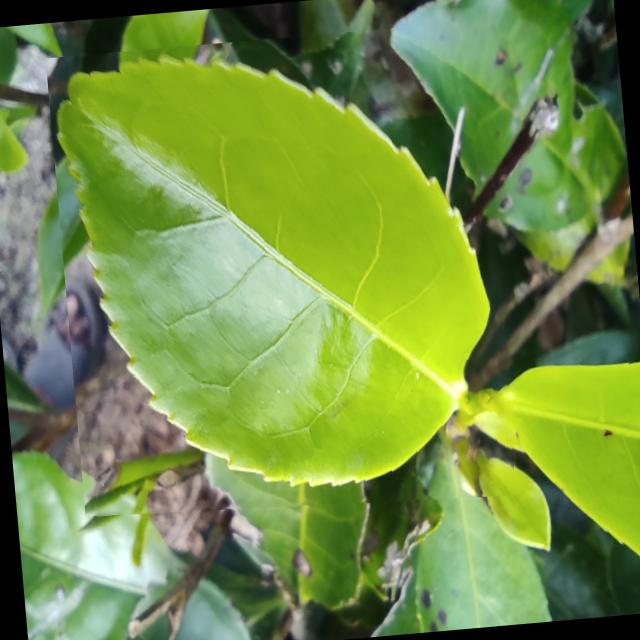Category B(2-4 days): (44, 20, 518, 532)
